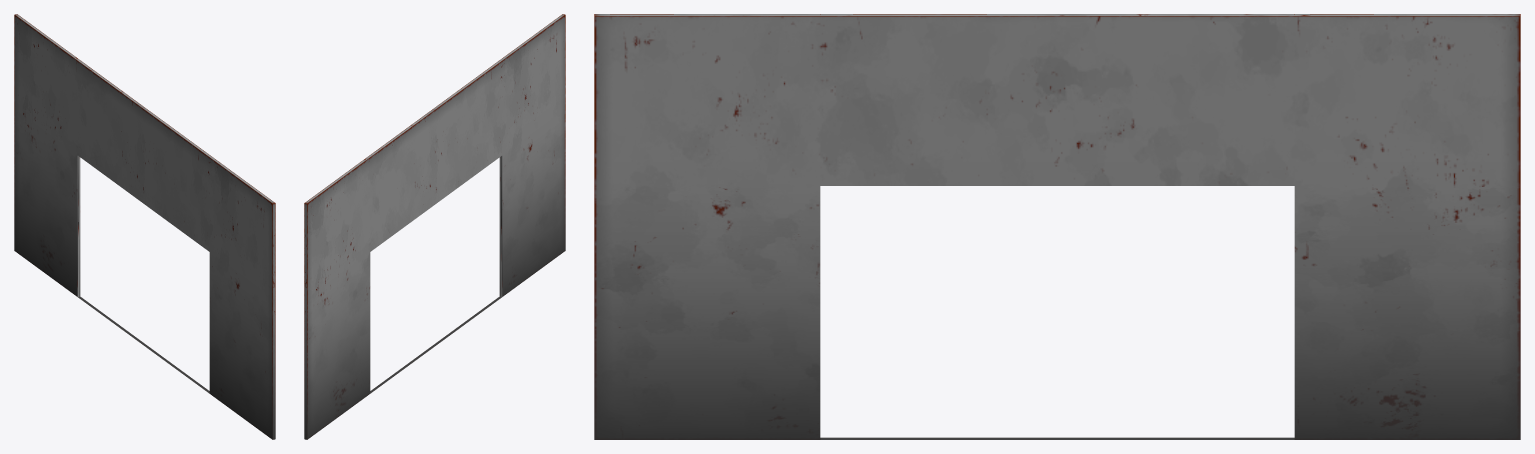
The model's file is Factory_ClosingWall.fbx.
3 views of the same model, side by side, from view 1: azimuth 30°, elevation 25°; view 2: azimuth 150°, elevation 25°; view 3: azimuth 270°, elevation 25° (orthographic). The views are drawn at different scales.
Visible parts, largest first — view 1: Plane.036; view 2: Plane.036; view 3: Plane.036.
Boxes of the visible parts, left/top/right/bottom form: Plane.036: left=14, top=14, right=275, bottom=439; Plane.036: left=304, top=14, right=565, bottom=439; Plane.036: left=594, top=14, right=1520, bottom=439.
Bounding box in the file's own units: 12.01 × 997 × 1976.
1 material, 1 textured.
